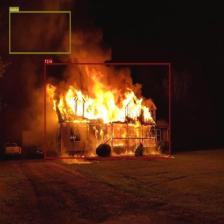fire: (45, 64, 170, 158)
smoke: (10, 11, 70, 53)
